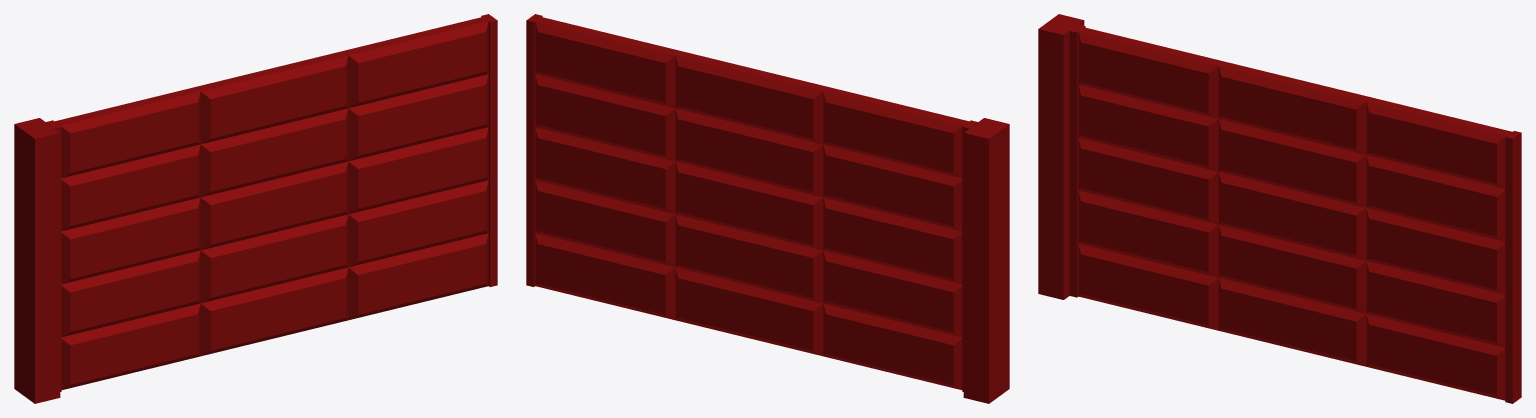
The model's file is Concrete_fence.obj.
3 renders of one model, left to right at view 1: azimuth 30°, elevation 25°; view 2: azimuth 150°, elevation 25°; view 3: azimuth 330°, elevation 25°, orthographic.
Parts seen in each view (by area): view 1: Concrete_fence; view 2: Concrete_fence; view 3: Concrete_fence.
Part boxes in pixels (x1=…): Concrete_fence: x1=14, y1=14, x2=497, y2=403; Concrete_fence: x1=526, y1=14, x2=1009, y2=403; Concrete_fence: x1=1038, y1=14, x2=1521, y2=403.
Size of the model in its own units: 5561 by 3006 by 421.
